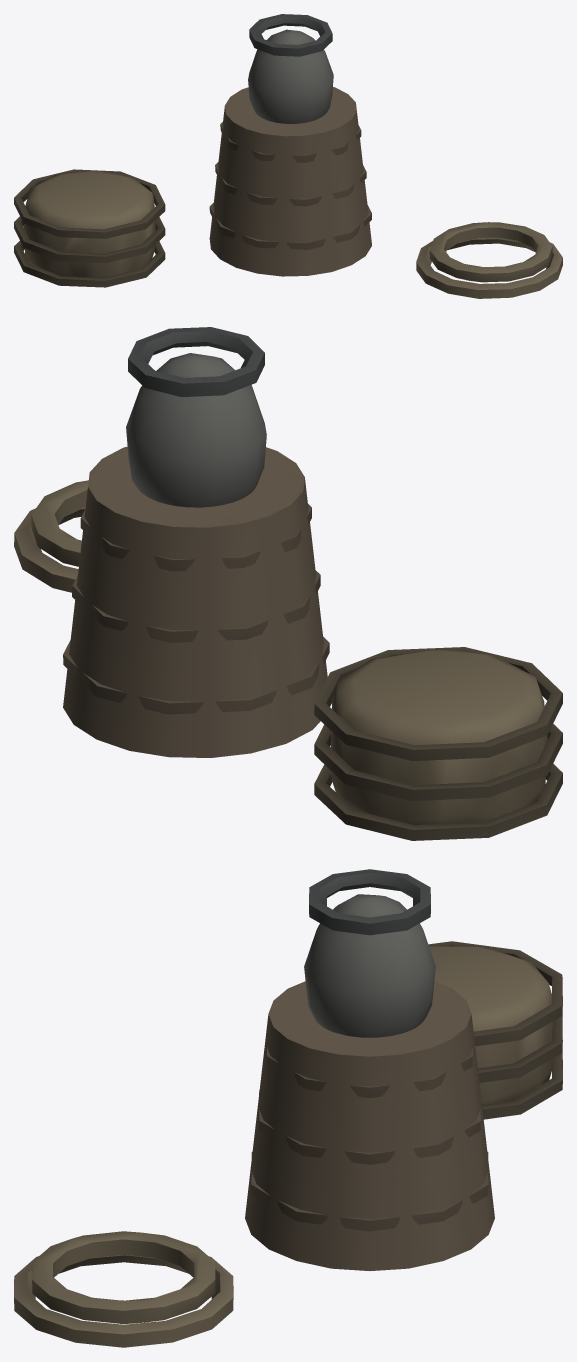
Rendered from rope_basket_a_lod1.glb.
3 renders of one model, top to bottom at view 1: azimuth 30°, elevation 25°; view 2: azimuth 150°, elevation 25°; view 3: azimuth 270°, elevation 25°, orthographic. The views are drawn at different scales.
Visible parts, largest first — view 1: Surface.001; view 2: Surface.001; view 3: Surface.001.
Boxes of the visible parts, x1,y1,x2,y2 form: Surface.001: (14, 14, 562, 298); Surface.001: (14, 327, 562, 840); Surface.001: (14, 869, 562, 1347).
Bounding box in the file's own units: 1.82 × 0.8691 × 1.34.
